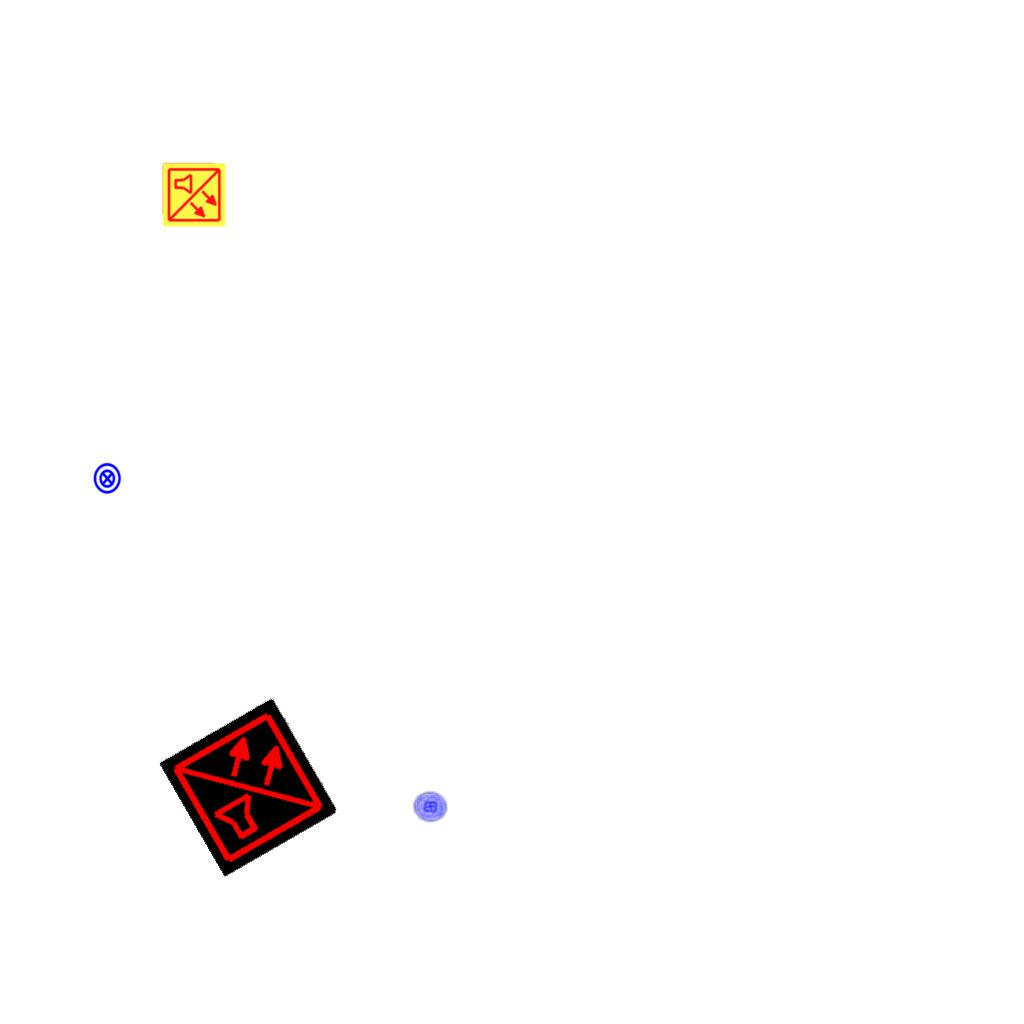OKW_Multisensormelder_(Kombination_optischer_Rauch-Kahlenmonoxid_Waerme-Melder): (158, 696, 340, 878), (161, 162, 227, 228)
Taster_beleuchtet: (411, 787, 450, 826), (91, 462, 124, 495)
